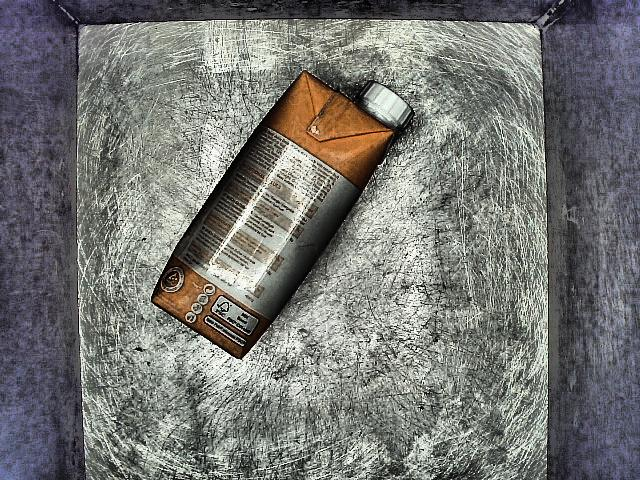Paper: (140, 66, 424, 367)
